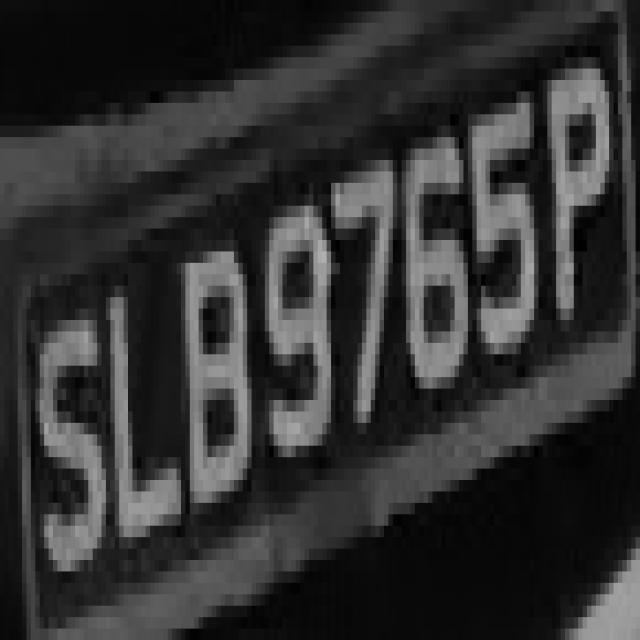5: (464, 80, 538, 389)
6: (397, 91, 468, 412)
7: (318, 137, 393, 469)
9: (252, 206, 348, 491)
B: (177, 206, 256, 537)
L: (92, 240, 168, 560)
P: (543, 11, 618, 343)
S: (26, 263, 110, 583)
